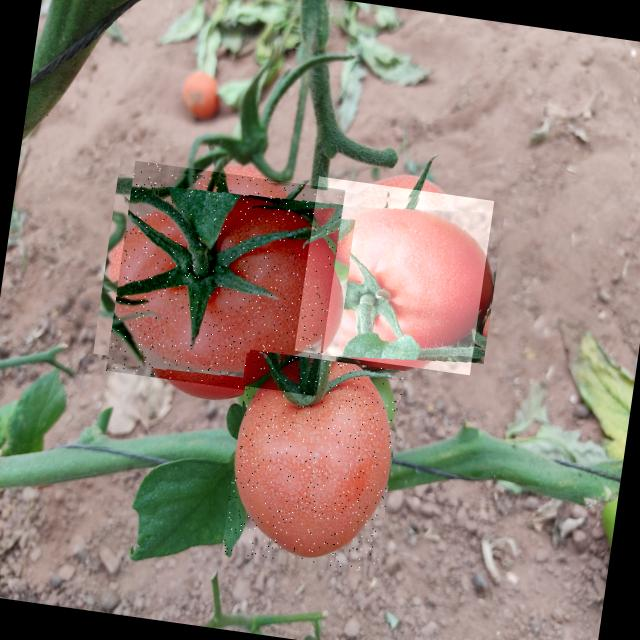Ripe Tomato: (106, 161, 345, 400), (222, 350, 404, 576), (294, 177, 494, 376)
